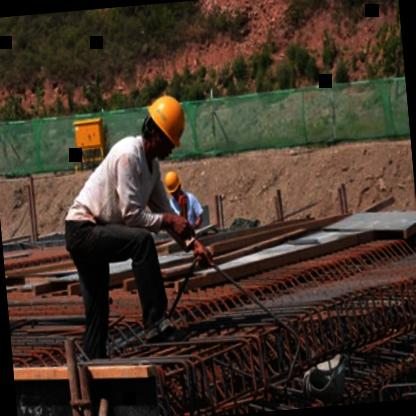helmet: (132, 86, 194, 166), (160, 166, 185, 204)
